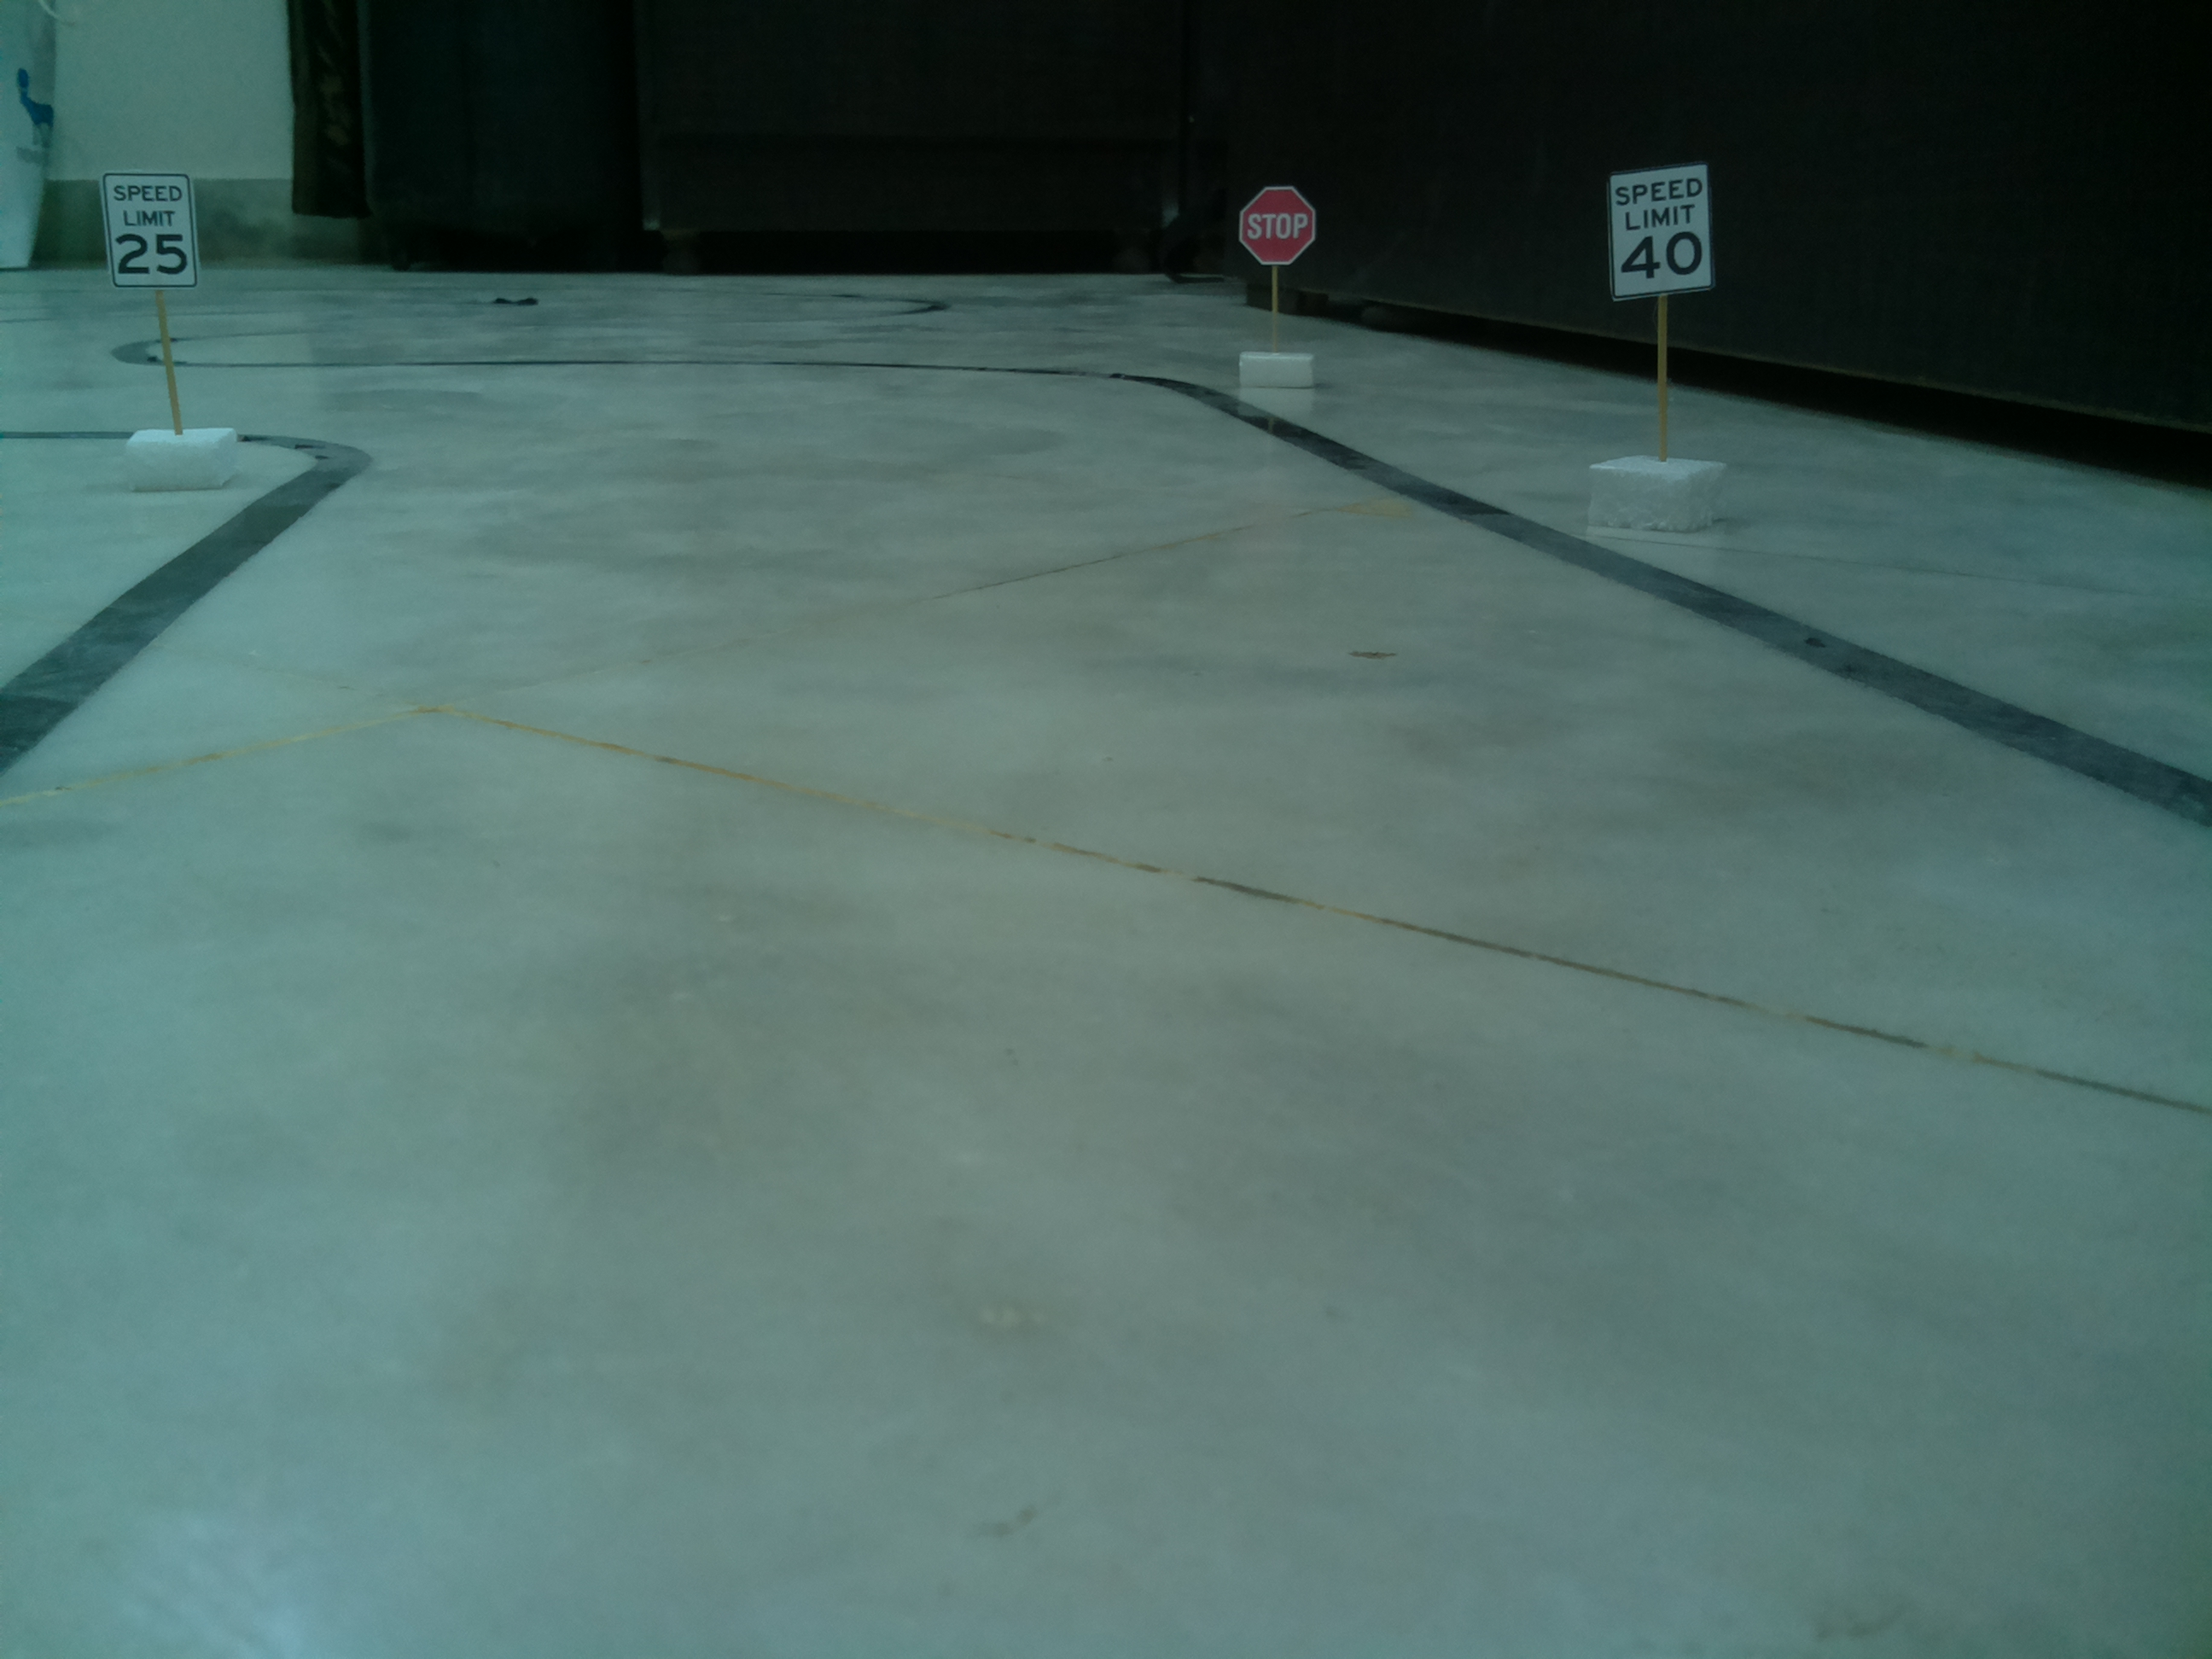Speed limit 25: (99, 166, 211, 298)
Speed limit 40: (1602, 162, 1731, 308)
Stop sign: (1231, 179, 1325, 272)
